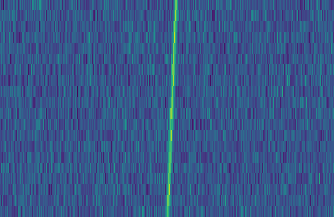signal: (163, 0, 180, 217)
